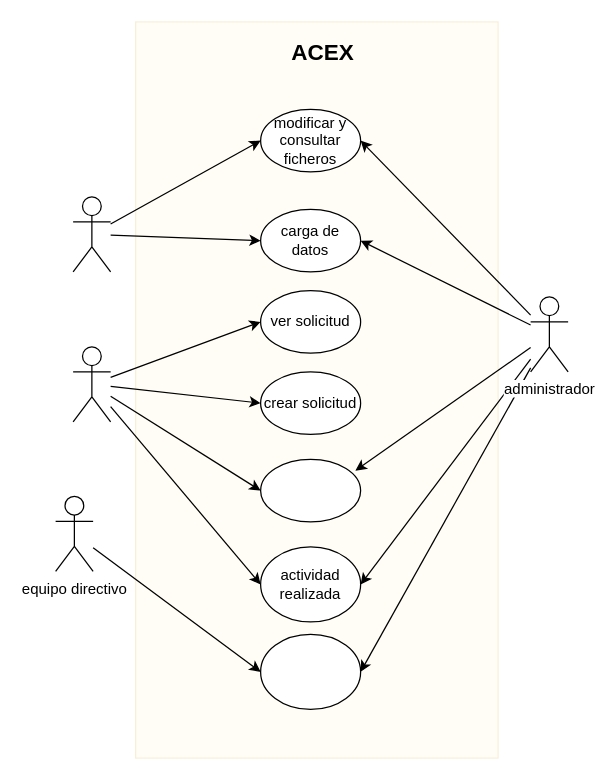
The diagram is 616 pixels wide and 780 high, and some of its shapes have lost their labels. Here are the shapes that lost their labels. From the top down, the centre of each, then its label:
point 91,234: superusuario
point 91,384: profesor
point 310,490: modificar solicitud
point 310,671: aprobar o denegar solicitudes
